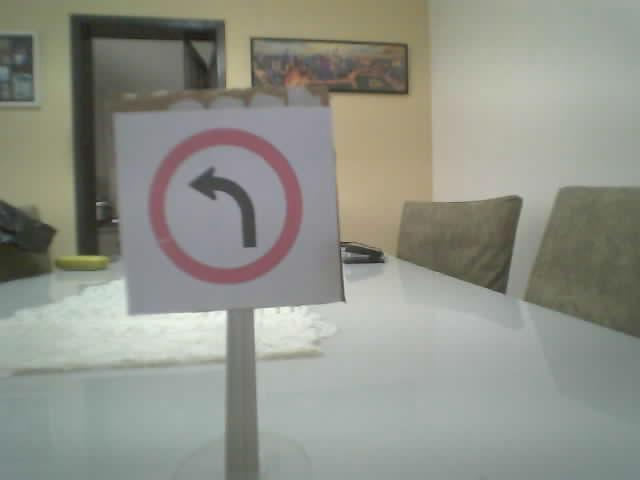R-25a_esquerda: (146, 127, 303, 285)
